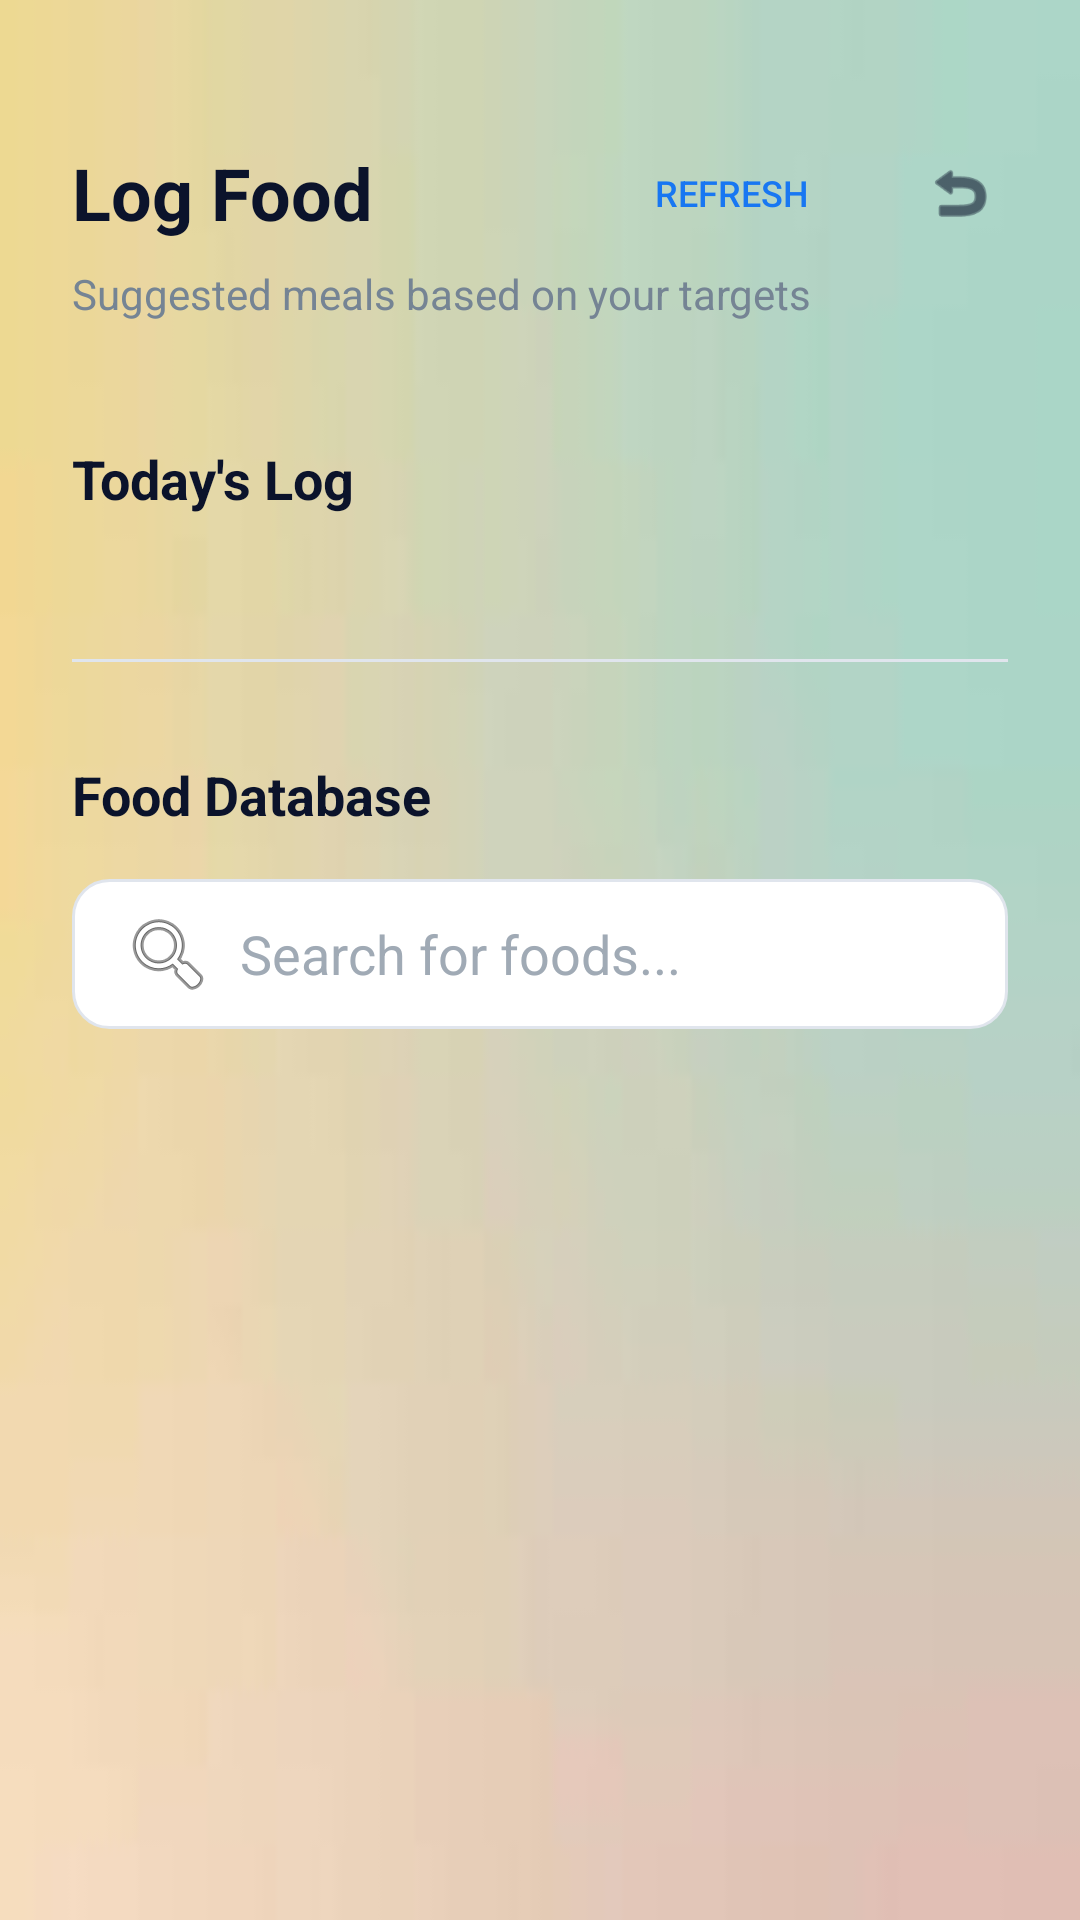

Point at icon controls on the screen. Image size 1080 × 1920, points as point (x, y).
revert: point (961, 193)
